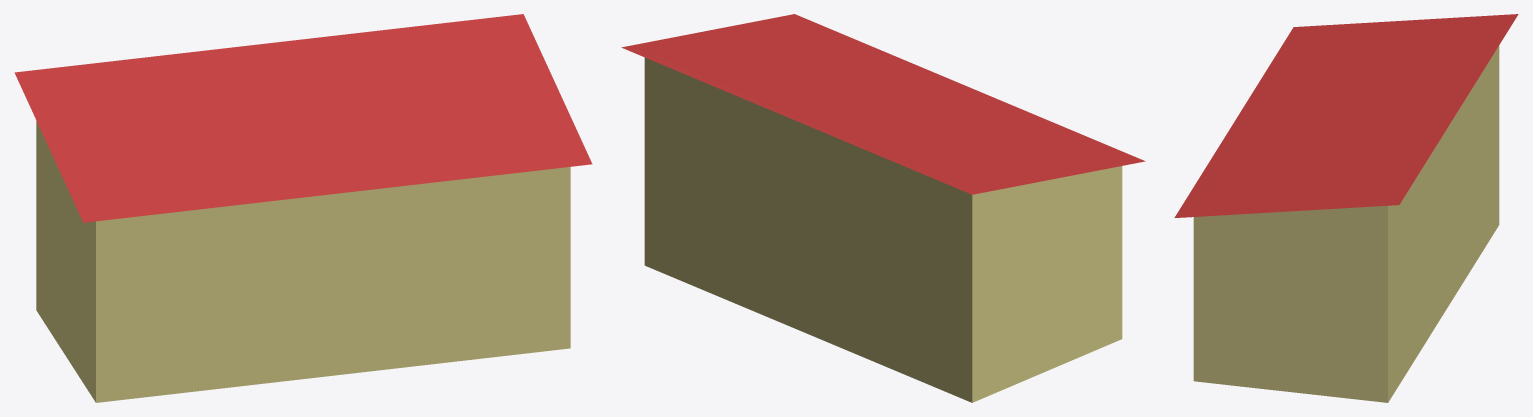
3 renders of one model, left to right at view 1: azimuth 30°, elevation 25°; view 2: azimuth 150°, elevation 25°; view 3: azimuth 270°, elevation 25°, orthographic. The views are drawn at different scales.
Bounding box in the file's own units: 16.1 × 10.85 × 7.16.
